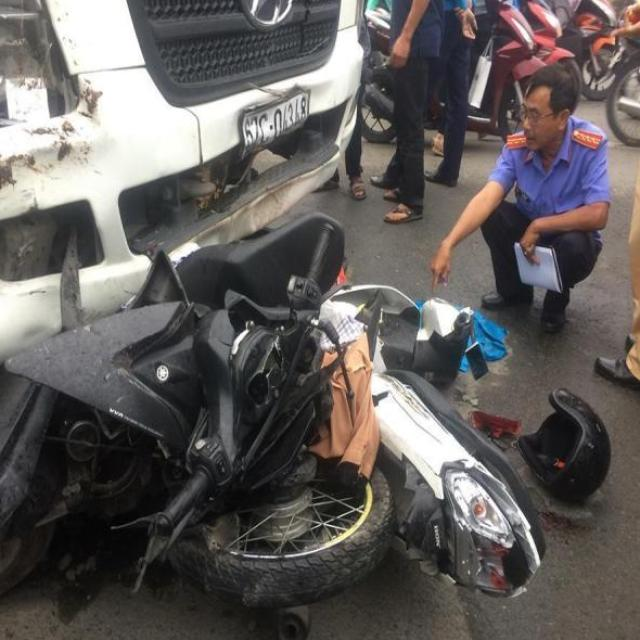accident: (0, 72, 550, 640)
